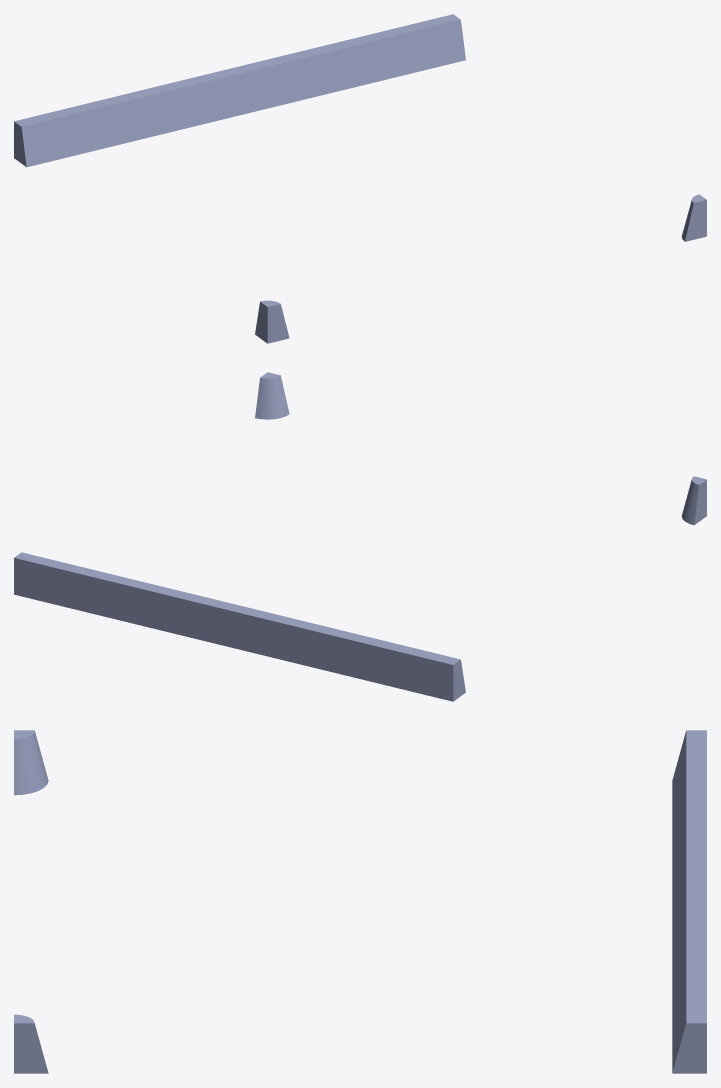
File: road-intersection-barrier.glb
3 renders of one model, top to bottom at view 1: azimuth 30°, elevation 25°; view 2: azimuth 150°, elevation 25°; view 3: azimuth 270°, elevation 25°, orthographic. The views are drawn at different scales.
Visible parts, largest first — view 1: road-intersection-barrier; view 2: road-intersection-barrier; view 3: road-intersection-barrier.
Part boxes in pixels (x1,y1,x2,y2): road-intersection-barrier: [14, 14, 706, 343]; road-intersection-barrier: [14, 372, 706, 701]; road-intersection-barrier: [14, 730, 706, 1073].
Bounding box in the file's own units: 10 × 0.7996 × 10.
1 material, 1 textured.
